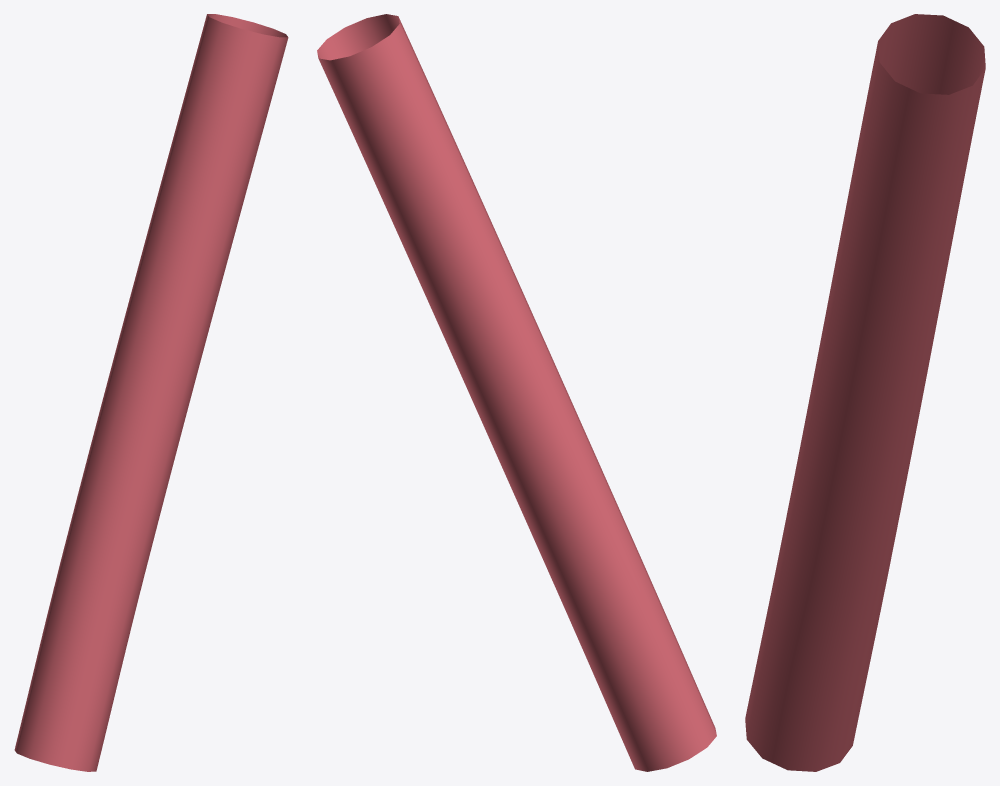
3 renders of one model, left to right at view 1: azimuth 30°, elevation 25°; view 2: azimuth 150°, elevation 25°; view 3: azimuth 270°, elevation 25°, orthographic. The views are drawn at different scales.
Parts seen in each view (by area): view 1: ZA_95f510775ceed67e; view 2: ZA_95f510775ceed67e; view 3: ZA_95f510775ceed67e.
Part boxes in pixels (left/top/right/bottom): ZA_95f510775ceed67e: left=14, top=14, right=288, bottom=771; ZA_95f510775ceed67e: left=317, top=14, right=716, bottom=771; ZA_95f510775ceed67e: left=745, top=14, right=985, bottom=771.
Size of the model in its own units: 0.0101 by 0.0208 by 0.0052.
